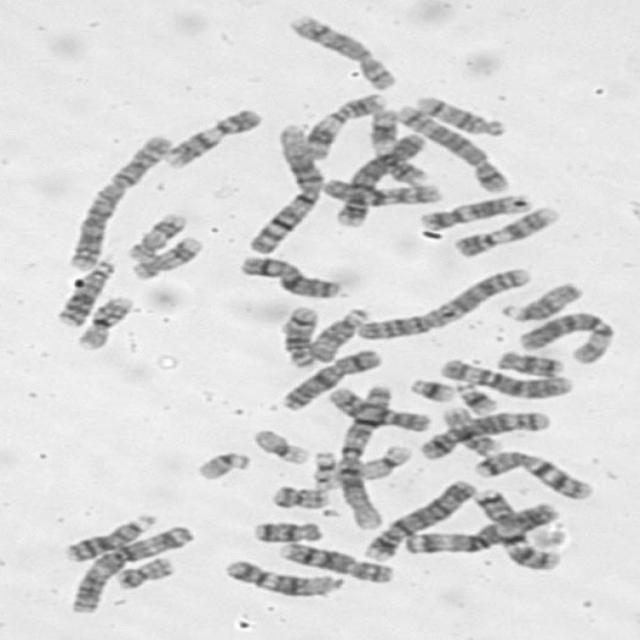A1: (242, 118, 328, 255), (331, 381, 396, 531)
A2: (61, 130, 173, 272), (350, 262, 534, 342)
A3: (63, 520, 198, 614), (399, 499, 561, 555)
B4: (358, 474, 480, 562), (331, 128, 430, 228)
B5: (390, 99, 513, 194), (413, 406, 554, 462)
C10: (321, 382, 435, 433), (316, 172, 446, 206)
C11: (301, 89, 390, 160), (366, 105, 432, 185)
C12: (218, 554, 344, 598), (414, 189, 534, 232)
C6: (434, 354, 576, 400), (513, 306, 617, 366)
C7: (469, 483, 565, 572), (468, 444, 597, 502)
C8: (281, 10, 400, 91), (272, 538, 398, 584)
C9: (159, 104, 264, 170), (449, 201, 564, 259)
D13: (58, 508, 158, 564), (51, 255, 119, 328)
D14: (411, 90, 509, 138), (275, 301, 321, 369)
D15: (302, 303, 372, 363), (496, 277, 586, 323)
E16: (70, 292, 136, 352), (436, 403, 504, 456)
E17: (125, 231, 205, 281), (121, 208, 189, 262)
E18: (492, 346, 566, 378), (249, 516, 326, 544)
F19: (340, 439, 414, 481), (247, 423, 313, 466)
F20: (110, 551, 177, 591), (267, 481, 332, 510)
G21: (450, 376, 502, 416), (404, 372, 458, 403)
G22: (190, 446, 253, 482), (306, 446, 342, 490)
X: (274, 344, 385, 412), (234, 250, 347, 300)
